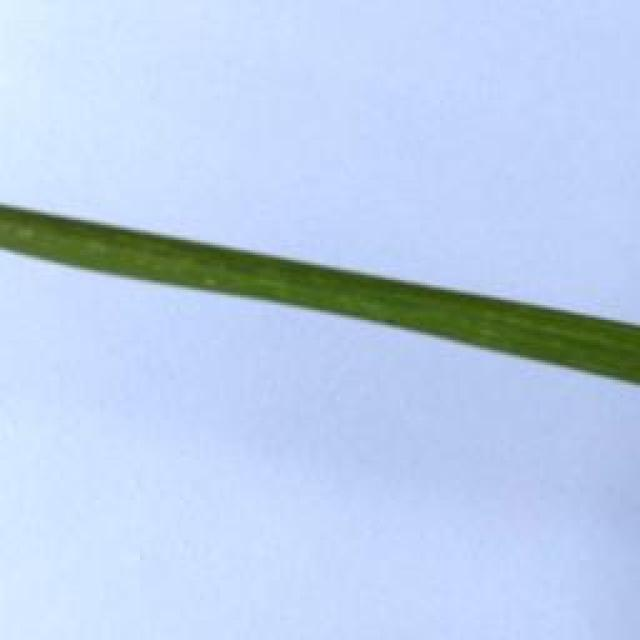Healthy-Plant: (0, 192, 640, 387)
